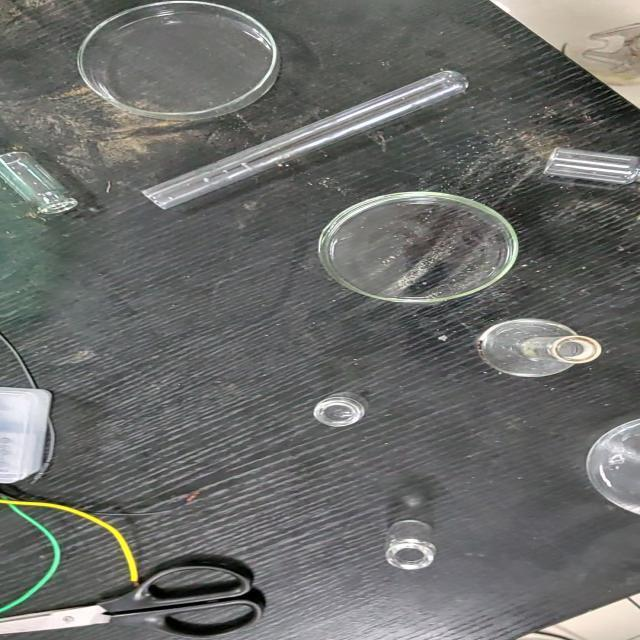cardboard: (0, 0, 639, 639)
cups: (75, 0, 280, 122), (316, 189, 519, 305), (584, 415, 639, 518), (0, 384, 54, 485), (0, 149, 78, 217), (542, 145, 639, 187)
